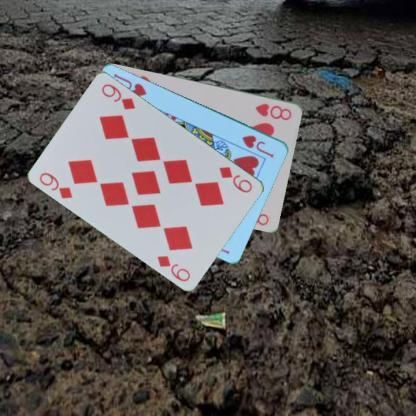8h: (252, 100, 292, 122)
9d: (37, 169, 75, 200), (217, 163, 254, 194)
Jh: (240, 132, 275, 158)
